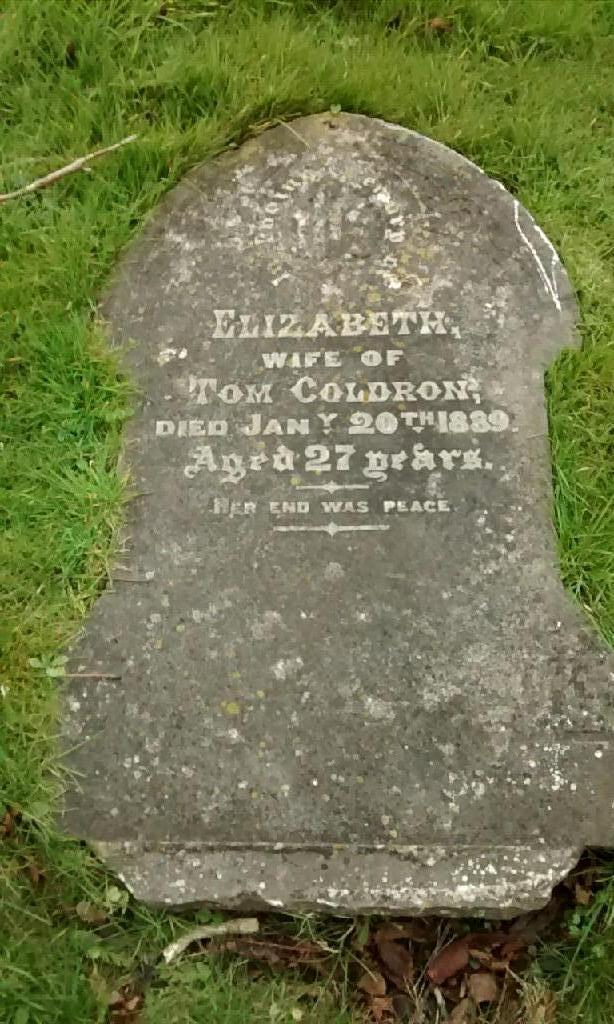upright: (48, 105, 614, 923)
